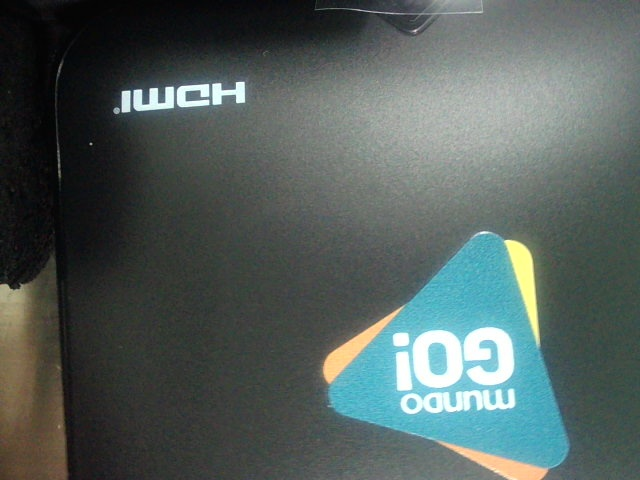AP_IPGMundoGO: (290, 219, 587, 479)
